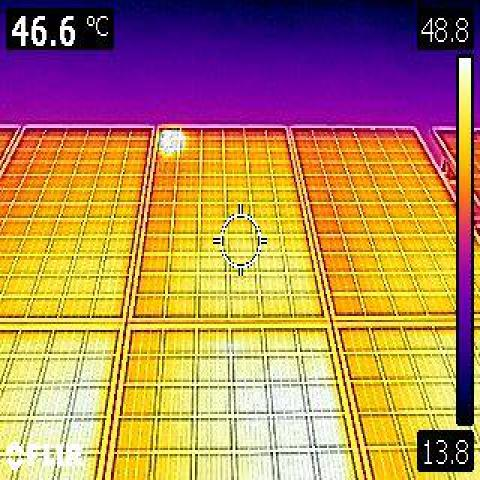fault: (236, 359, 336, 480), (64, 341, 109, 418), (156, 124, 183, 157)
